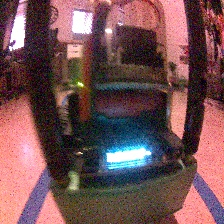rob: (48, 25, 198, 224)
